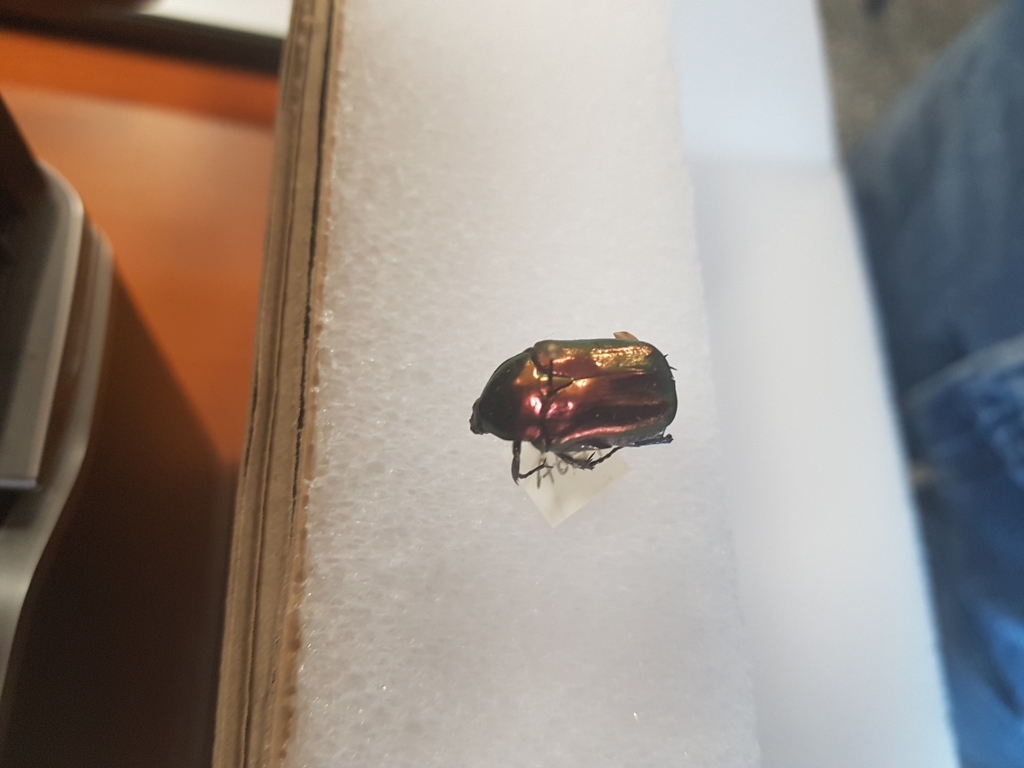Protaetia_cuprea_ignicollis: (460, 328, 694, 486)
